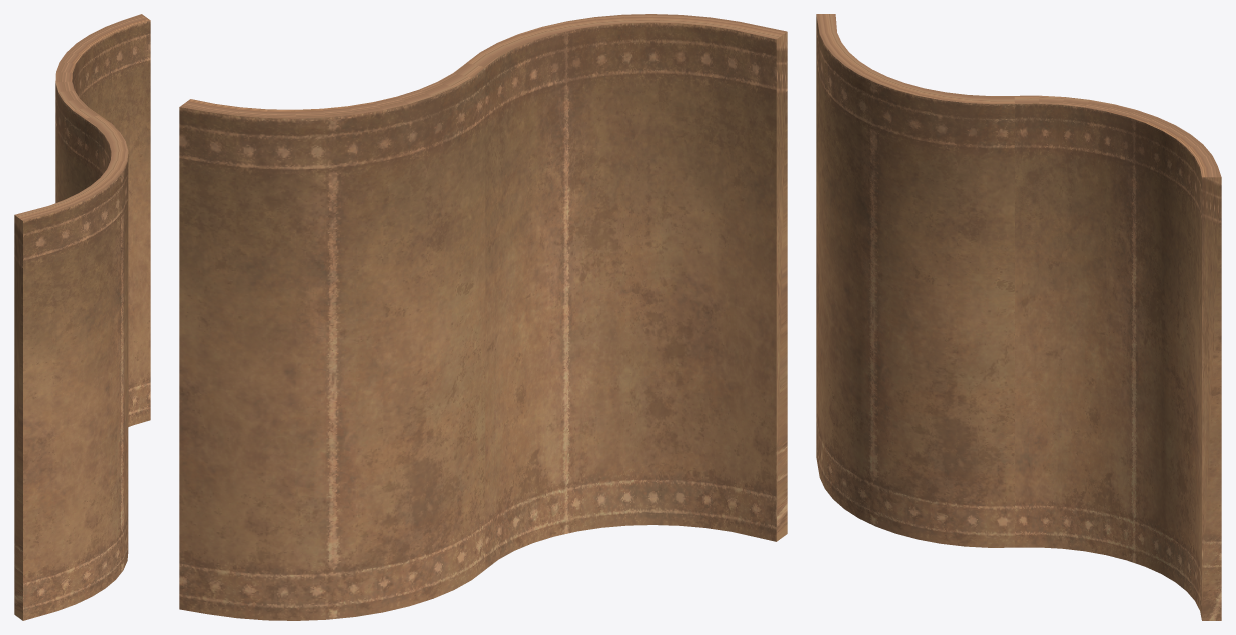
File: Wall_1_H.fbx
3 views of the same model, side by side, from view 1: azimuth 30°, elevation 25°; view 2: azimuth 150°, elevation 25°; view 3: azimuth 270°, elevation 25° (orthographic). The views are drawn at different scales.
Parts seen in each view (by area): view 1: Wall_1_H; view 2: Wall_1_H; view 3: Wall_1_H.
Part boxes in pixels (x1,y1,x2,y2): Wall_1_H: (14, 14, 150, 620); Wall_1_H: (179, 14, 787, 620); Wall_1_H: (816, 14, 1221, 620).
Size of the model in its own units: 2 by 2.53 by 2.1.
